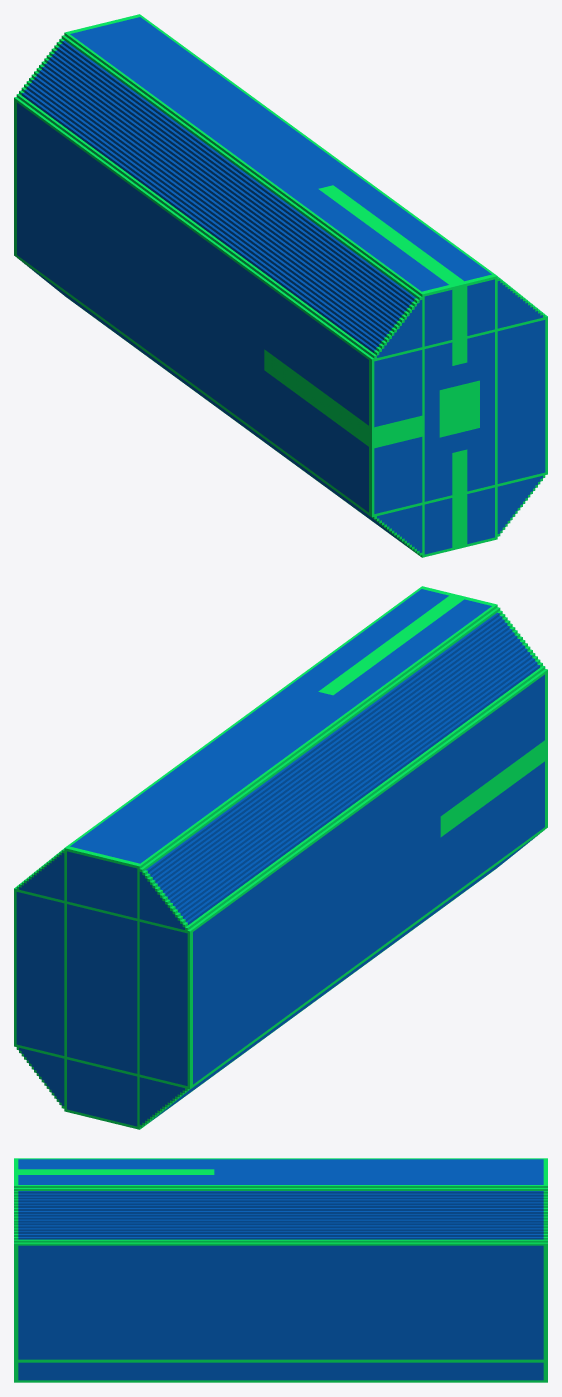
File: BigArm.fbx
The picture shows the model from 3 angles, top to bottom: view 1: azimuth 30°, elevation 25°; view 2: azimuth 150°, elevation 25°; view 3: azimuth 270°, elevation 25°; orthographic projection. The views are drawn at different scales.
Parts seen in each view (by area): view 1: BigArm:Mesh; view 2: BigArm:Mesh; view 3: BigArm:Mesh.
Part boxes in pixels (x1,y1,x2,y2): BigArm:Mesh: (14,14,547,557); BigArm:Mesh: (14,586,547,1129); BigArm:Mesh: (14,1158,547,1382).
Bounding box in the file's own units: 8.22 × 11.75 × 28.93.
1 material, 1 textured.
